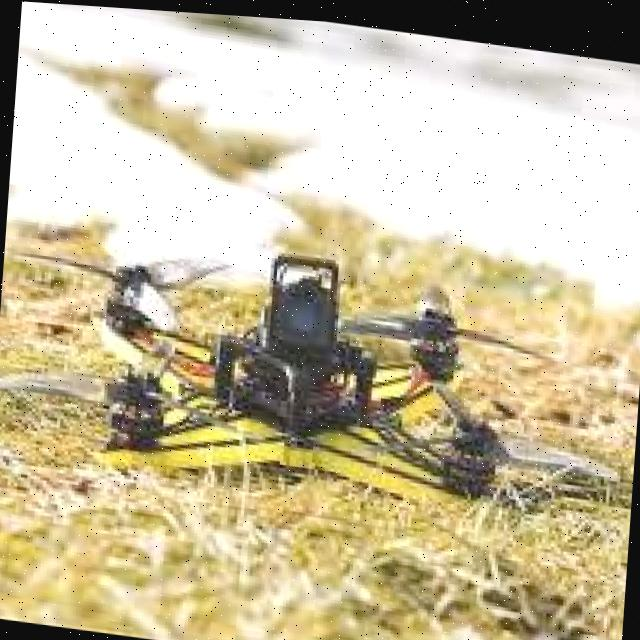drone: (0, 219, 640, 559)
